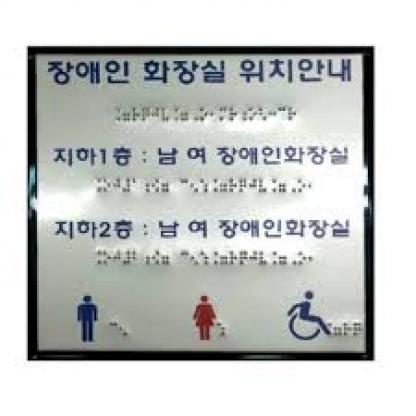toilet: (77, 287, 100, 342)
